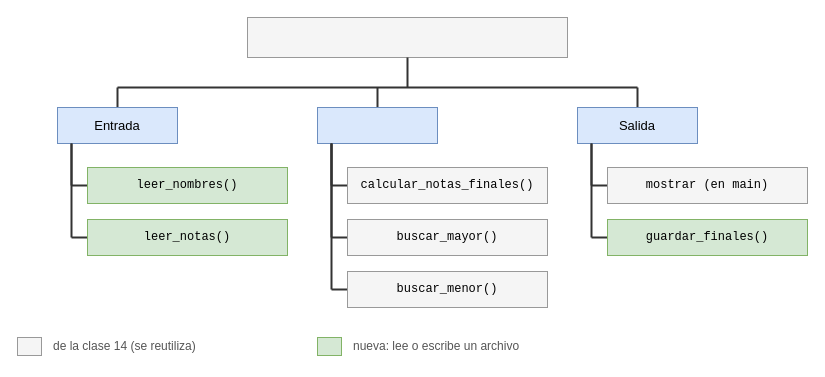
Some shapes in this 825 by 377 pixel diagram are drawn without their labels. The shapes that lost their labels are listed below. From the top down, each one's centre as x and y in pixels, then its label:
At pixel 407 37: "Programa: notas finales desde un archivo".
At pixel 377 125: "Proceso".
